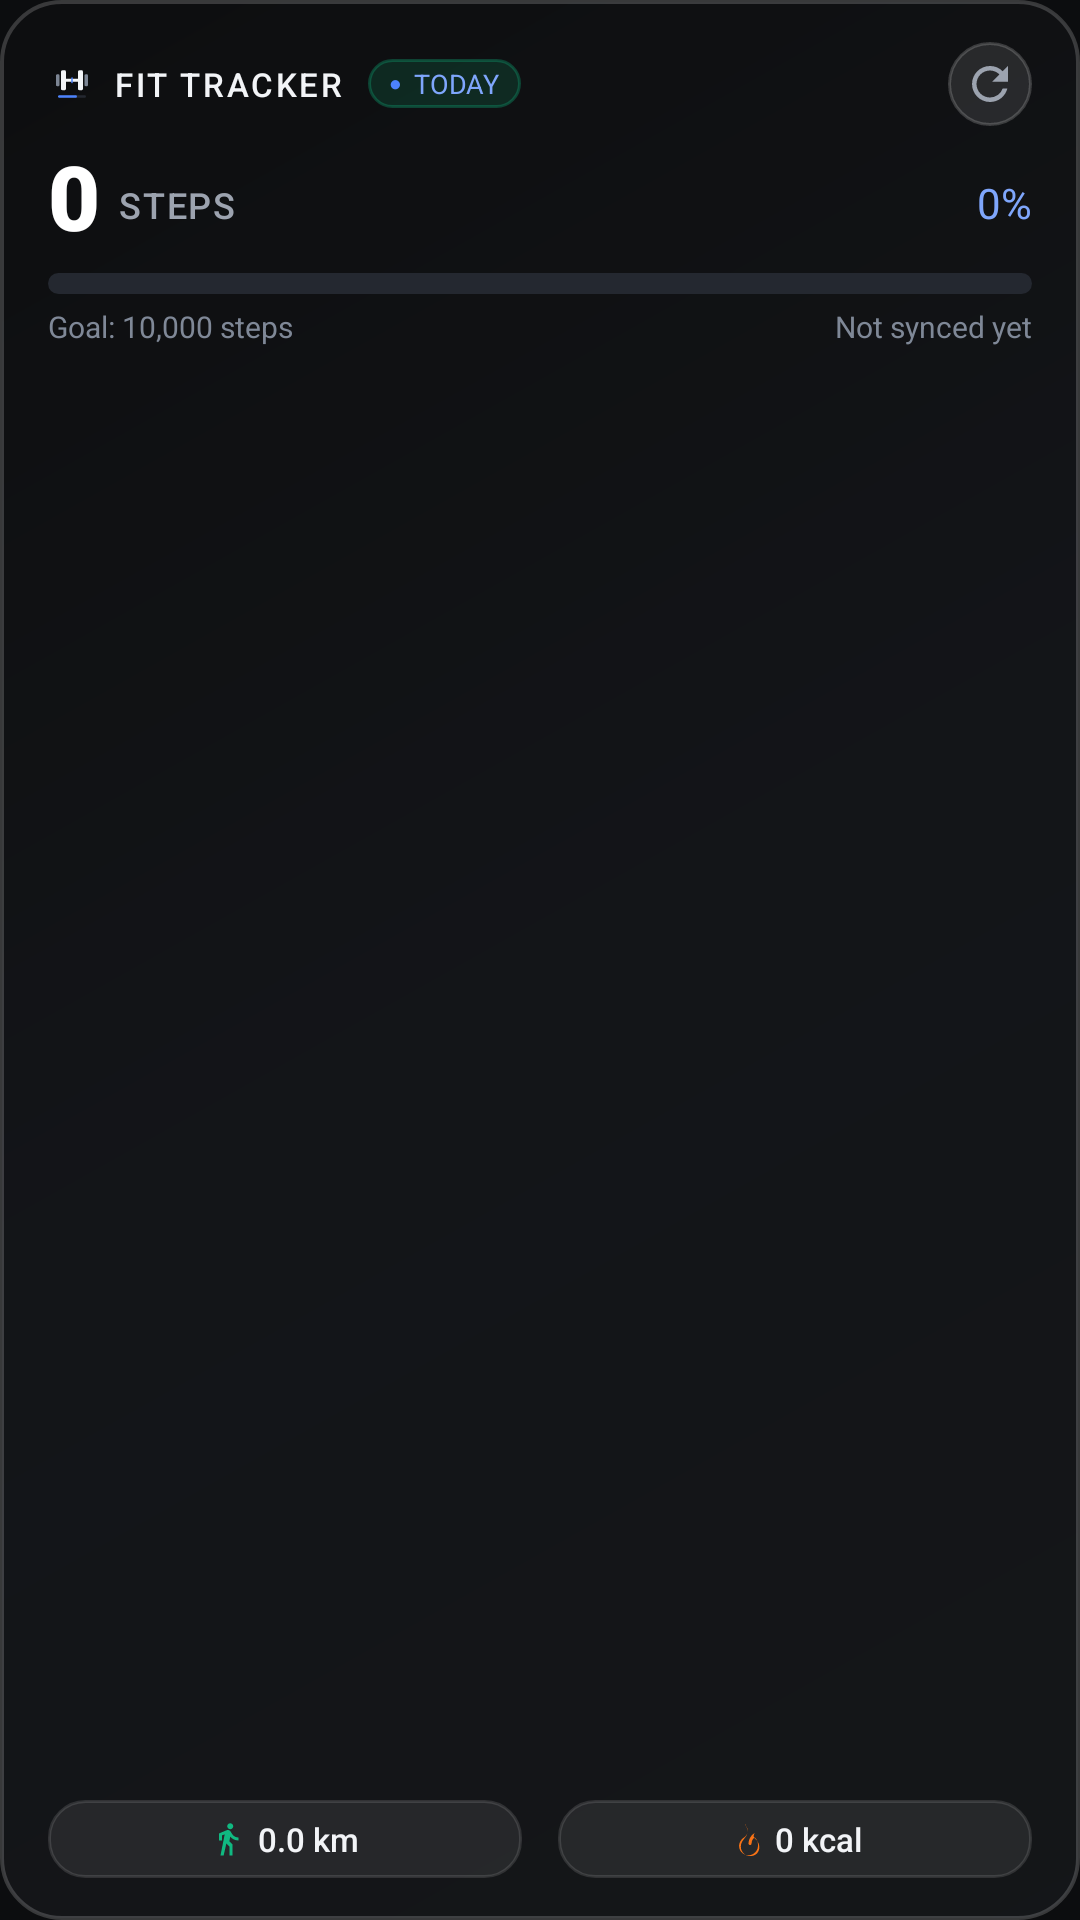

Where icons sit on this 1080 × 1920 app screen, as (x1,y1,x2,y2):
Calories: (739,1824,760,1856)
Distance: (219,1823,239,1856)
Sync Steps Now: (948,42,1032,126)
